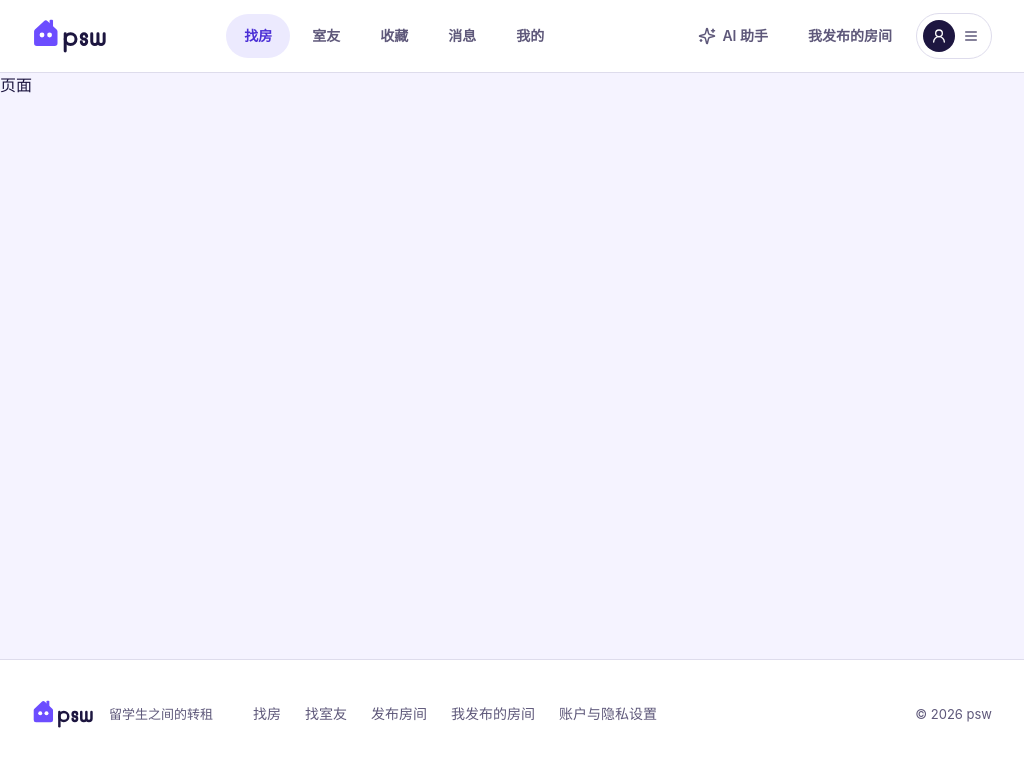
assistant UI › asks signed-out visitors to log in
Click the button with aria-label "打开 AI 助手" at (733, 36), box [682,14,784,58]
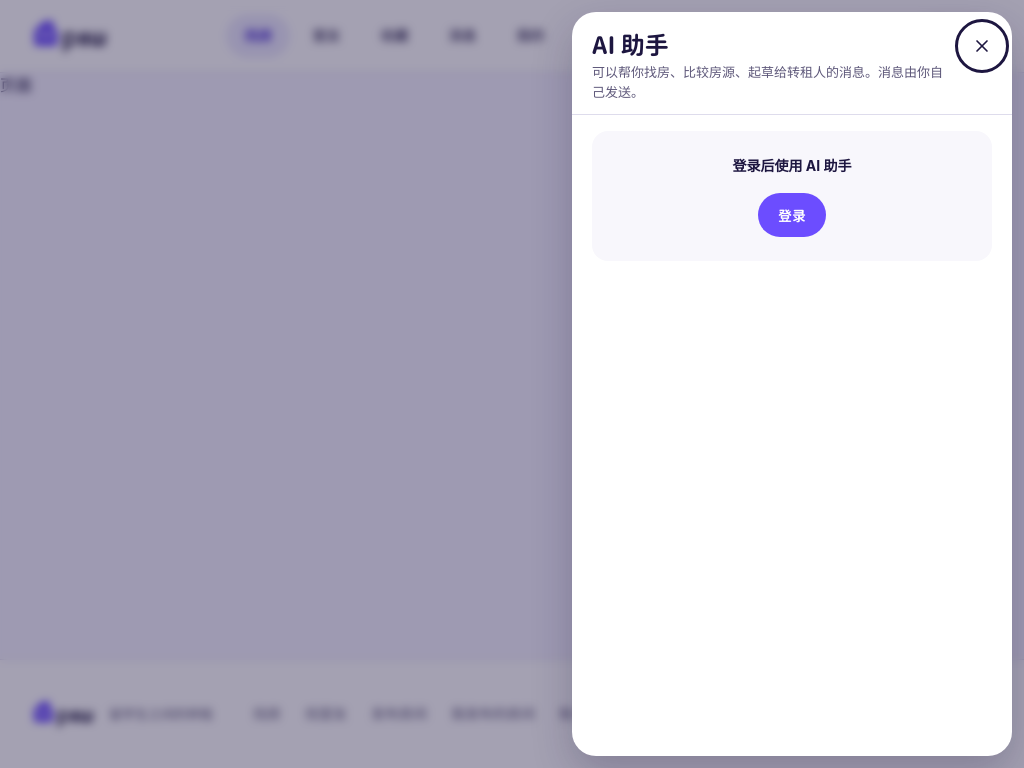
Result: the text "登录后使用 AI 助手" is shown at [732,157,852,174]
